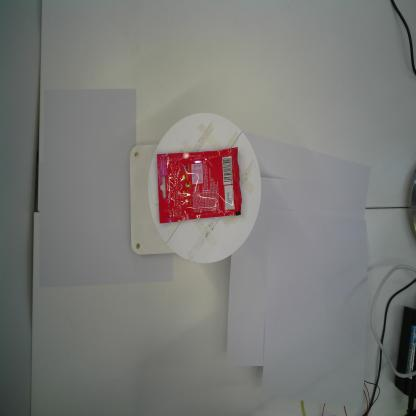Candy: (157, 146, 242, 224)
